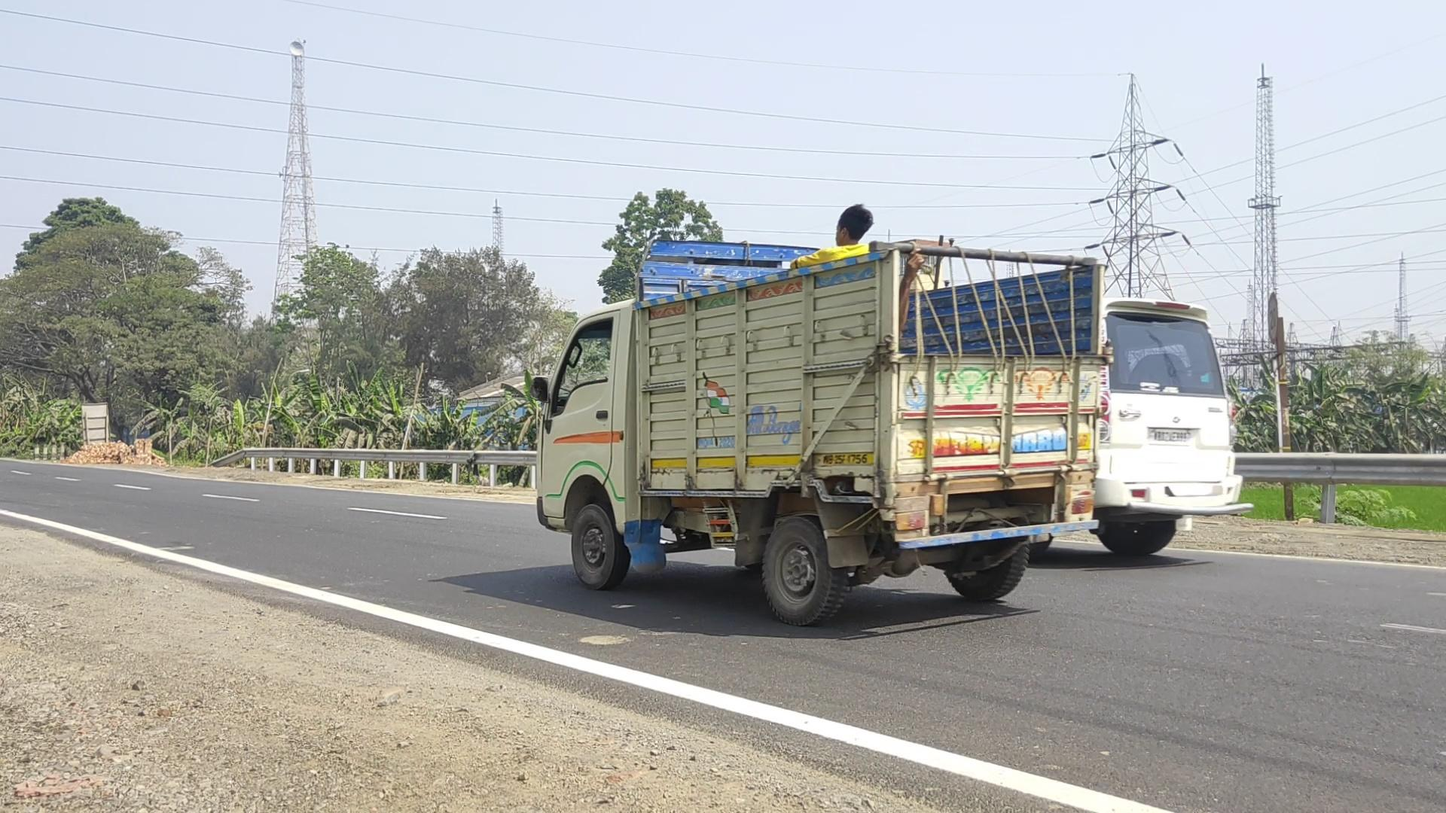car: (1091, 295, 1253, 567)
van: (529, 205, 1107, 626)
